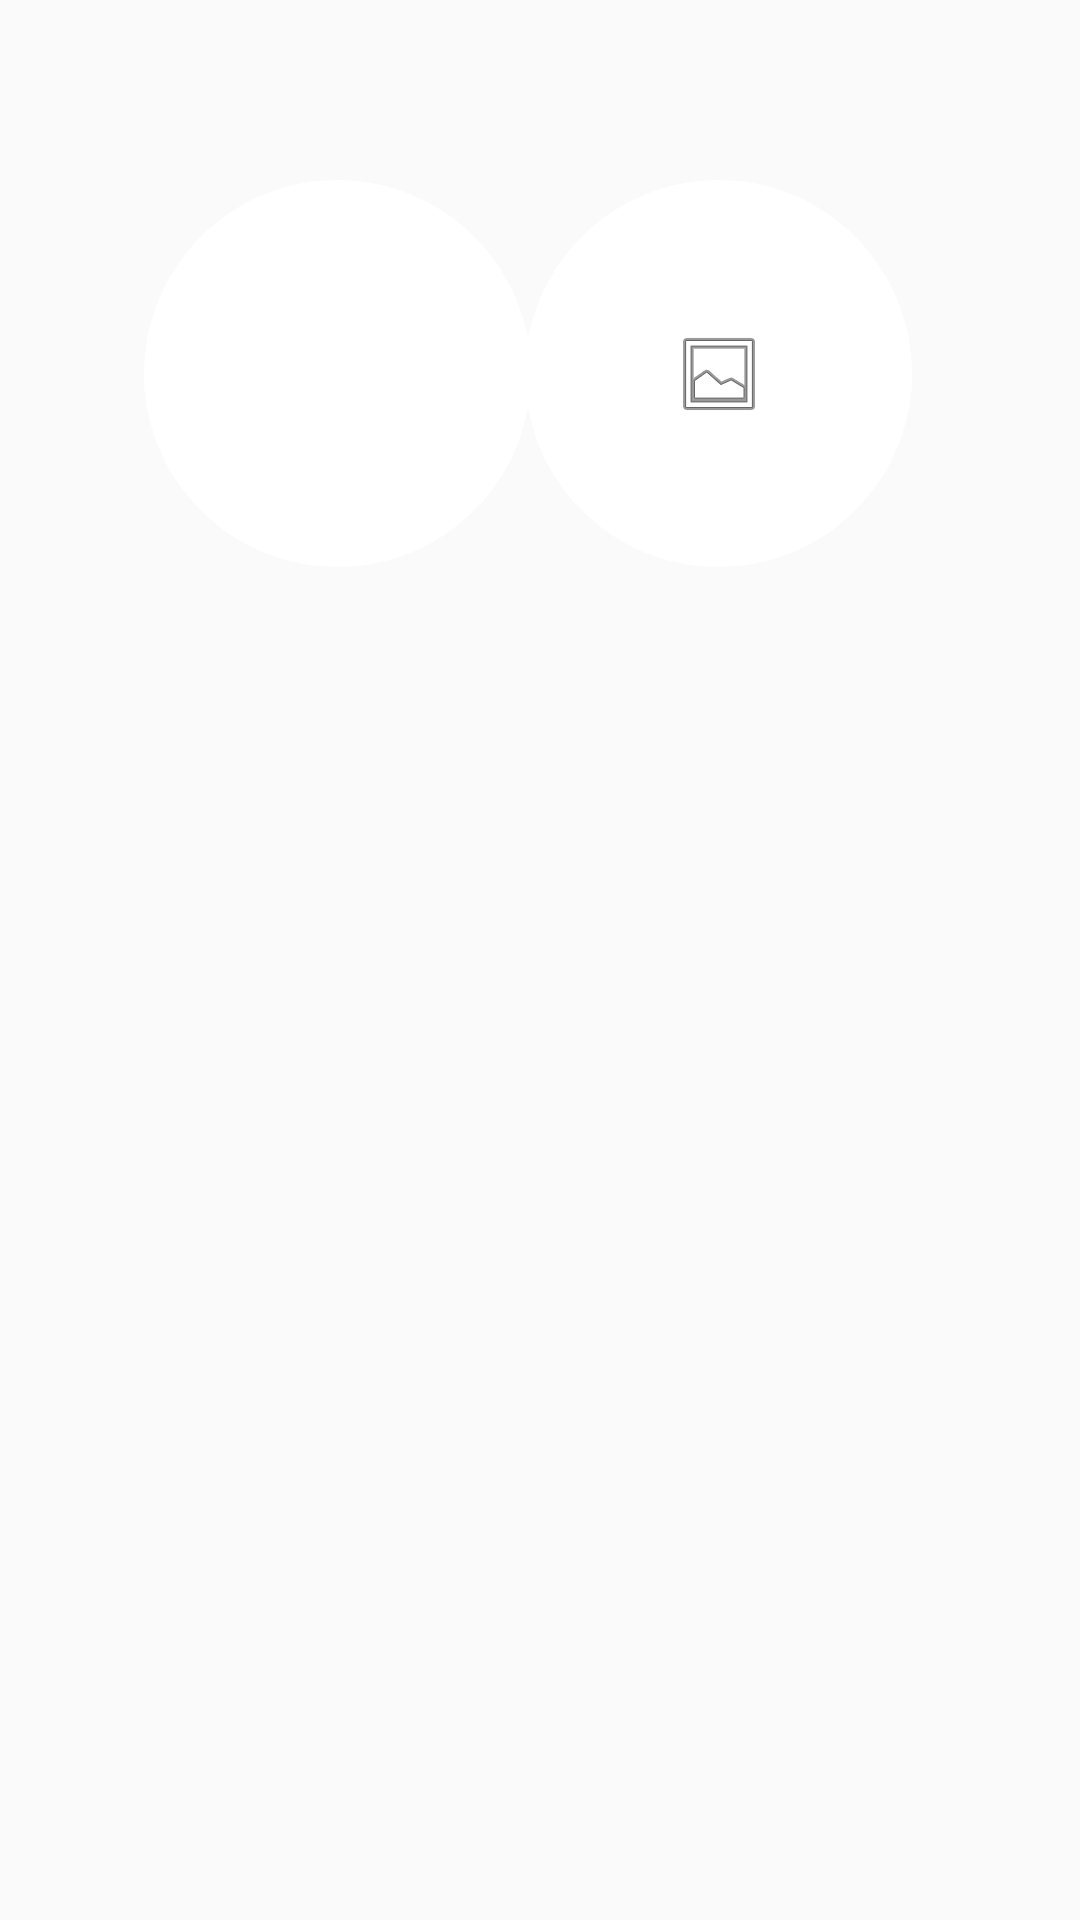

Where icons sit on this 1080x1920 app screen, as bbox=[x1, y1, x2, y2]:
gallery: bbox=[683, 338, 755, 410]
